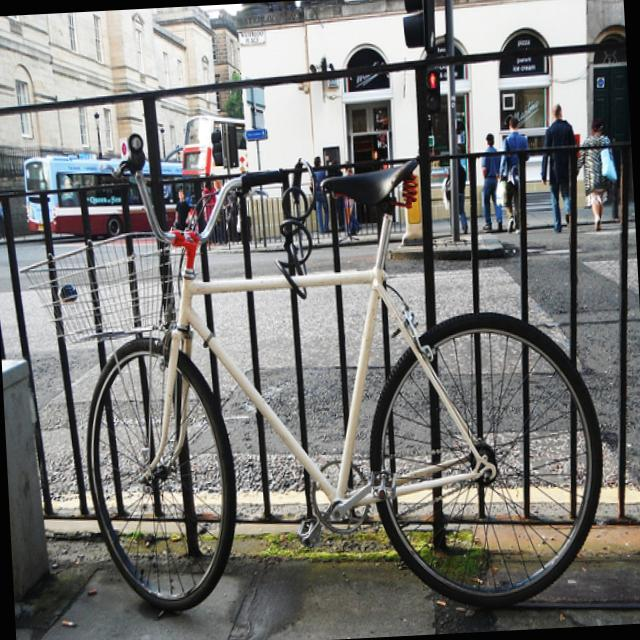Vehicle: (17, 147, 194, 240)
